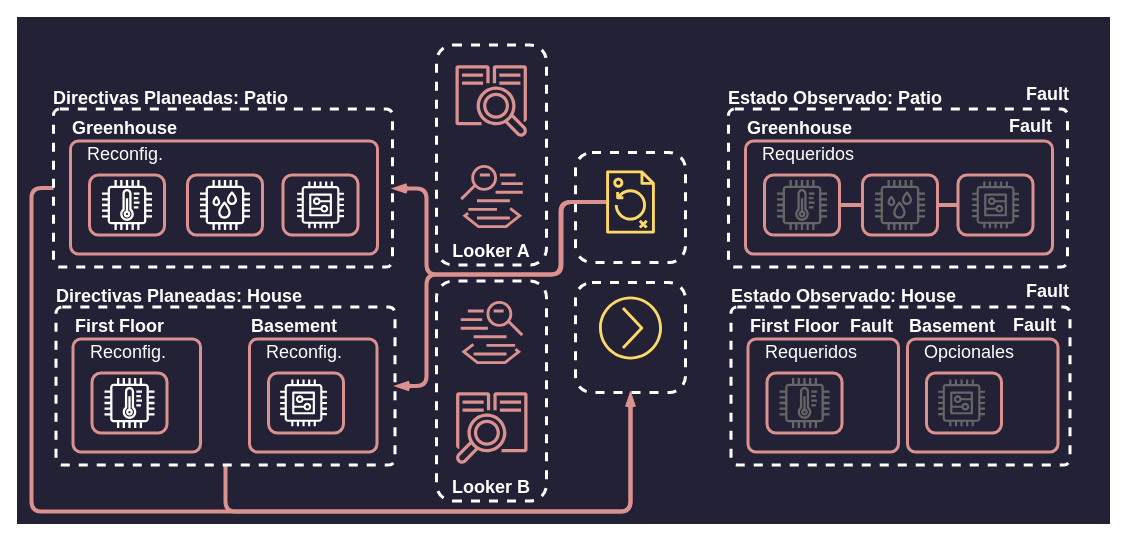
This 1127x541 diagram has some shape labels left out. Each missing label, with the box of its shape:
Bran: (574, 150, 686, 264)
DoThing: (574, 280, 686, 394)
